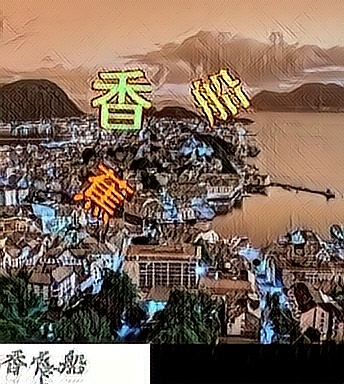B4AC: (189, 65, 249, 129)
BDB6: (74, 162, 134, 226)
CFE3: (90, 70, 150, 134)
